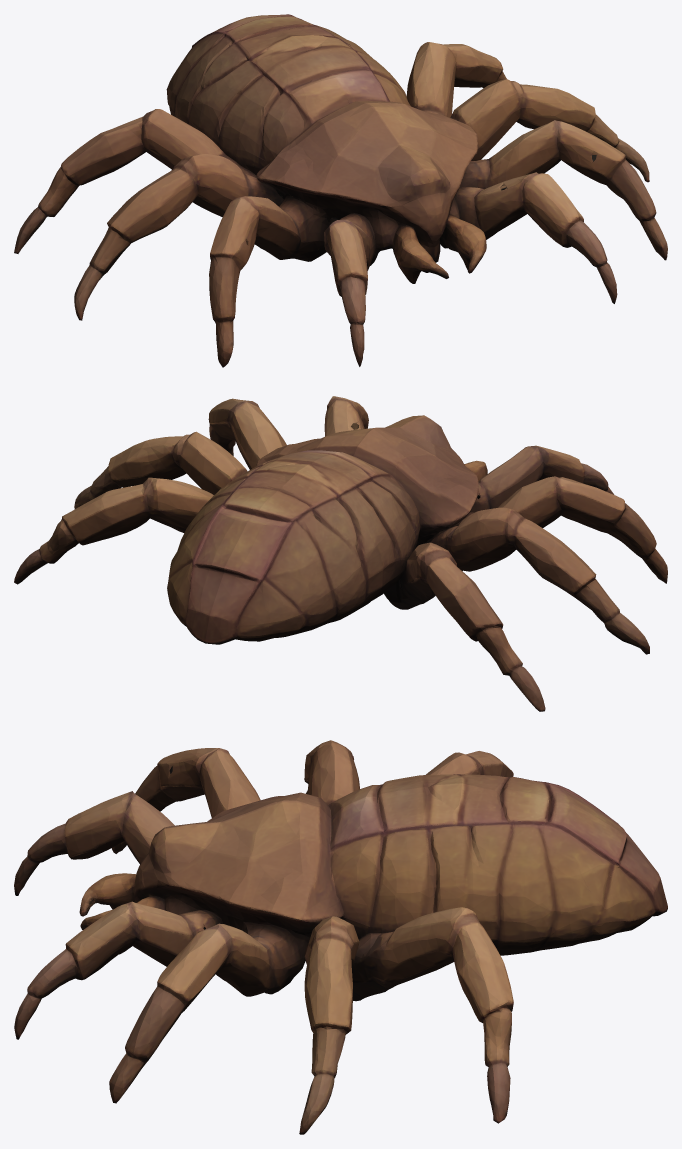
The picture shows the model from 3 angles, top to bottom: view 1: azimuth 30°, elevation 25°; view 2: azimuth 150°, elevation 25°; view 3: azimuth 270°, elevation 25°; orthographic projection. The views are drawn at different scales.
Parts seen in each view (by area): view 1: world; view 2: world; view 3: world.
Boxes of the visible parts, x1=… form: world: x1=14, y1=14, x2=667, y2=367; world: x1=14, y1=396, x2=667, y2=711; world: x1=14, y1=740, x2=667, y2=1134.
Bounding box in the file's own units: 0.9895 × 0.2782 × 0.8467.
1 material, 1 textured.
